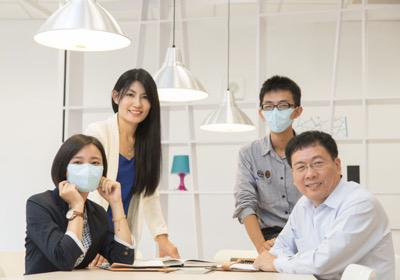with_mask: (65, 153, 104, 195), (260, 97, 298, 135)
without_mask: (290, 151, 336, 201), (118, 88, 149, 124)
